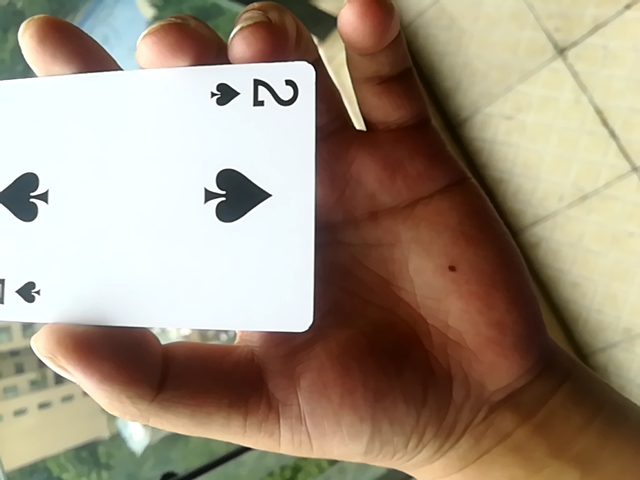ht 2: (0, 56, 318, 345)
